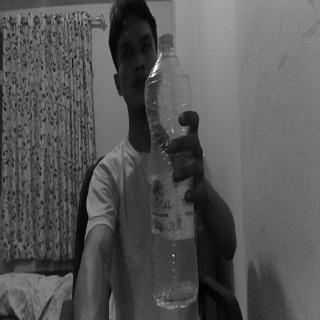plastic_bottles: (145, 30, 200, 309)
